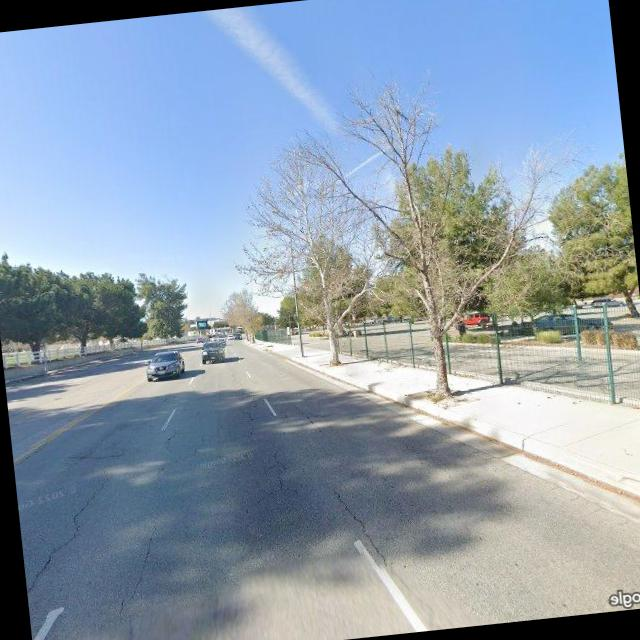crack: (16, 473, 123, 628), (104, 515, 170, 624), (332, 482, 392, 574), (266, 440, 294, 495), (304, 406, 328, 434)
